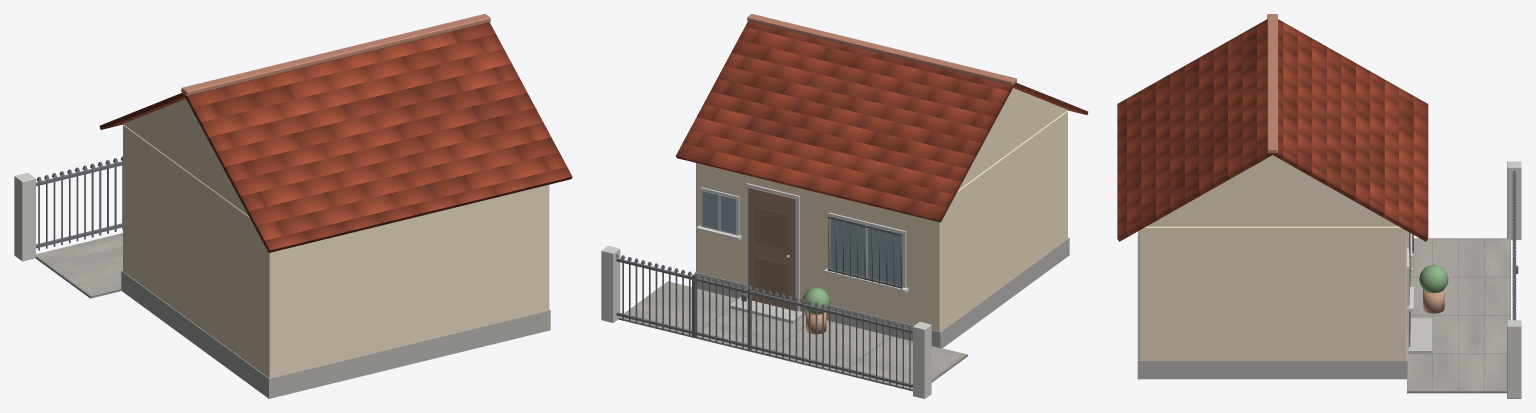
Rendered from barrio.casa_media.fbx.
3 views of the same model, side by side, from view 1: azimuth 30°, elevation 25°; view 2: azimuth 150°, elevation 25°; view 3: azimuth 270°, elevation 25° (orthographic). The views are drawn at different scales.
Visible parts, largest first — view 1: Casa, Agua del techo.001, Zocalo, Frontones, Radier, Cumbrera, Pilar.001, Agua del techo; view 2: Agua del techo, Casa, Radier, Zocalo, Vidrio, Frontones, Puerta, Cumbrera, Pilar, Pilar.001, Vidrio.001, Panel puerta.001 (+9 smaller); view 3: Casa, Agua del techo, Agua del techo.001, Radier, Frontones, Zocalo, Cumbrera, Pilar, Pilar.001, Peldano, Planta, Macetero.
Boxes of the visible parts, left/top/right/bottom form: Casa: left=123, top=124, right=549, bottom=378; Agua del techo.001: left=184, top=22, right=572, bottom=252; Zocalo: left=121, top=270, right=550, bottom=398; Frontones: left=123, top=99, right=248, bottom=215; Radier: left=35, top=233, right=122, bottom=298; Cumbrera: left=181, top=14, right=490, bottom=96; Pilar.001: left=14, top=173, right=35, bottom=261; Agua del techo: left=99, top=93, right=185, bottom=129; Agua del techo: left=676, top=21, right=1014, bottom=222; Casa: left=696, top=110, right=1067, bottom=331; Radier: left=618, top=281, right=967, bottom=391; Zocalo: left=694, top=237, right=1069, bottom=348; Vidrio: left=830, top=216, right=902, bottom=286; Frontones: left=958, top=88, right=1067, bottom=189; Puerta: left=748, top=187, right=795, bottom=310; Cumbrera: left=747, top=14, right=1016, bottom=85; Pilar: left=601, top=245, right=620, bottom=322; Pilar.001: left=913, top=322, right=931, bottom=398; Vidrio.001: left=702, top=191, right=736, bottom=233; Panel puerta.001: left=755, top=207, right=788, bottom=249; Casa: left=1138, top=226, right=1406, bottom=360; Agua del techo: left=1272, top=19, right=1428, bottom=241; Agua del techo.001: left=1117, top=19, right=1272, bottom=241; Radier: left=1407, top=238, right=1510, bottom=393; Frontones: left=1147, top=155, right=1398, bottom=226; Zocalo: left=1137, top=236, right=1407, bottom=379; Cumbrera: left=1267, top=14, right=1277, bottom=153; Pilar: left=1507, top=320, right=1521, bottom=398; Pilar.001: left=1507, top=161, right=1521, bottom=239; Peldano: left=1408, top=318, right=1432, bottom=353; Planta: left=1419, top=264, right=1448, bottom=293; Macetero: left=1423, top=289, right=1444, bottom=313.
Size of the model in its own units: 5.82 by 3.88 by 6.03.
23 materials, 2 textured.
